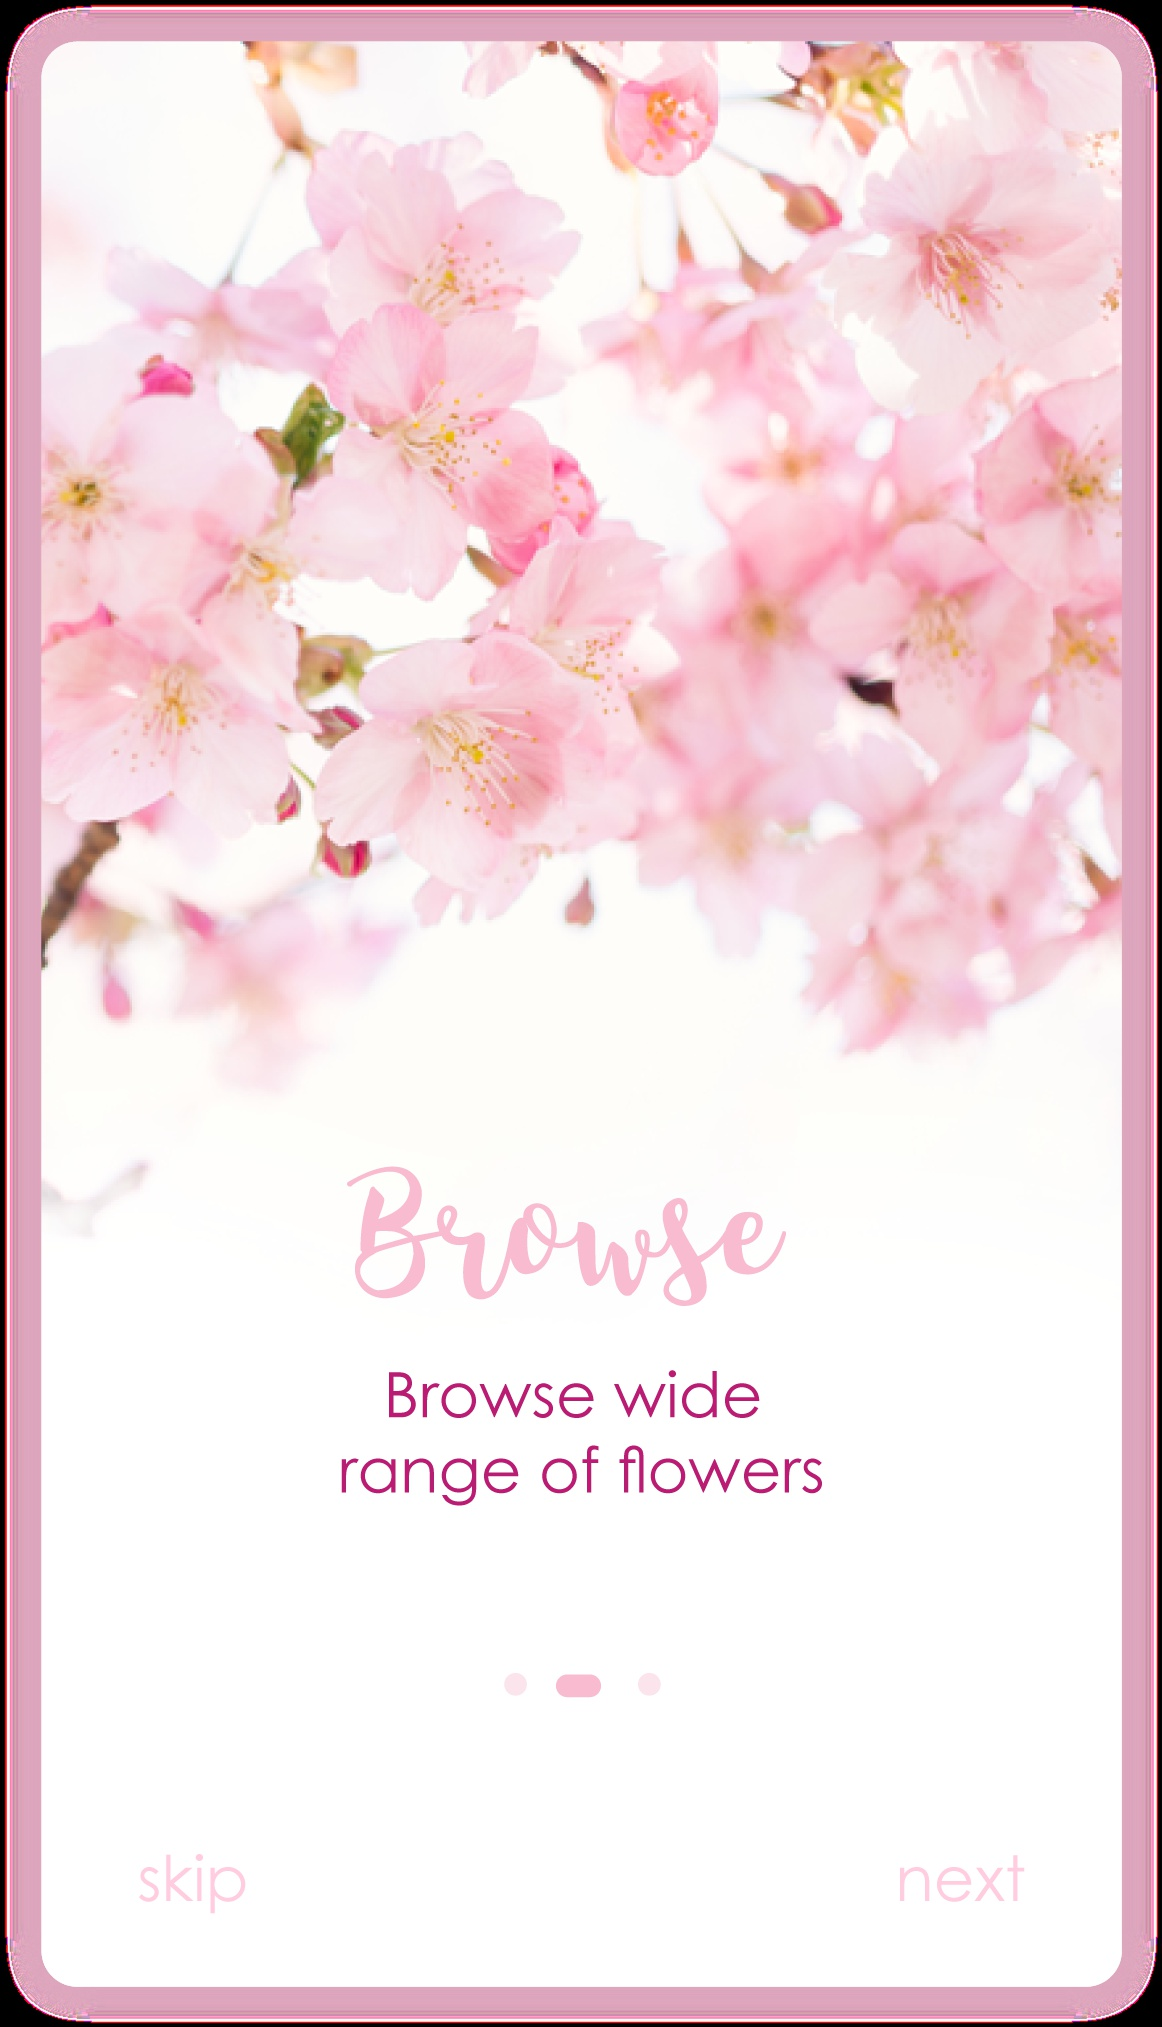BackgroundImage: (42, 42, 1122, 1987)
Image: (347, 1165, 788, 1309)
PageIndicator: (502, 1671, 662, 1698)
Text: (341, 1369, 824, 1506), (139, 1852, 248, 1916), (899, 1854, 1026, 1903)
